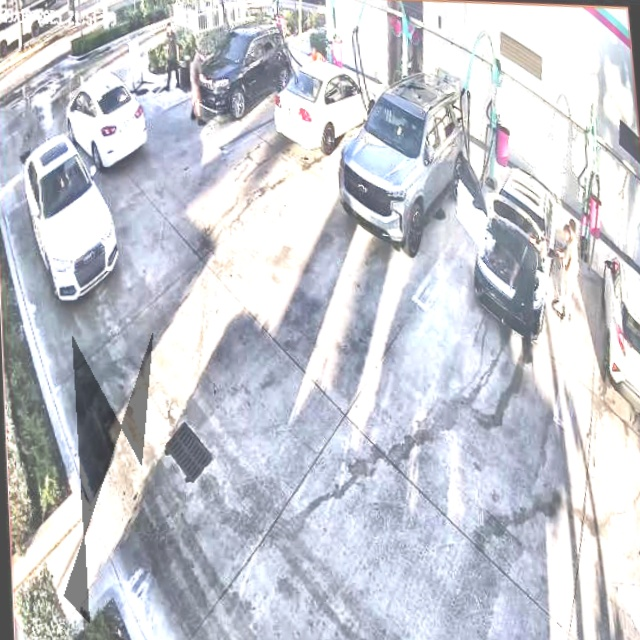Car: (335, 65, 477, 261), (463, 160, 568, 341), (273, 55, 378, 156), (65, 68, 149, 172)
